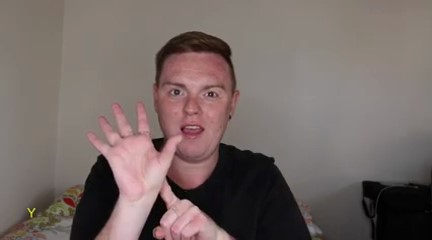Y: (83, 99, 210, 240)
